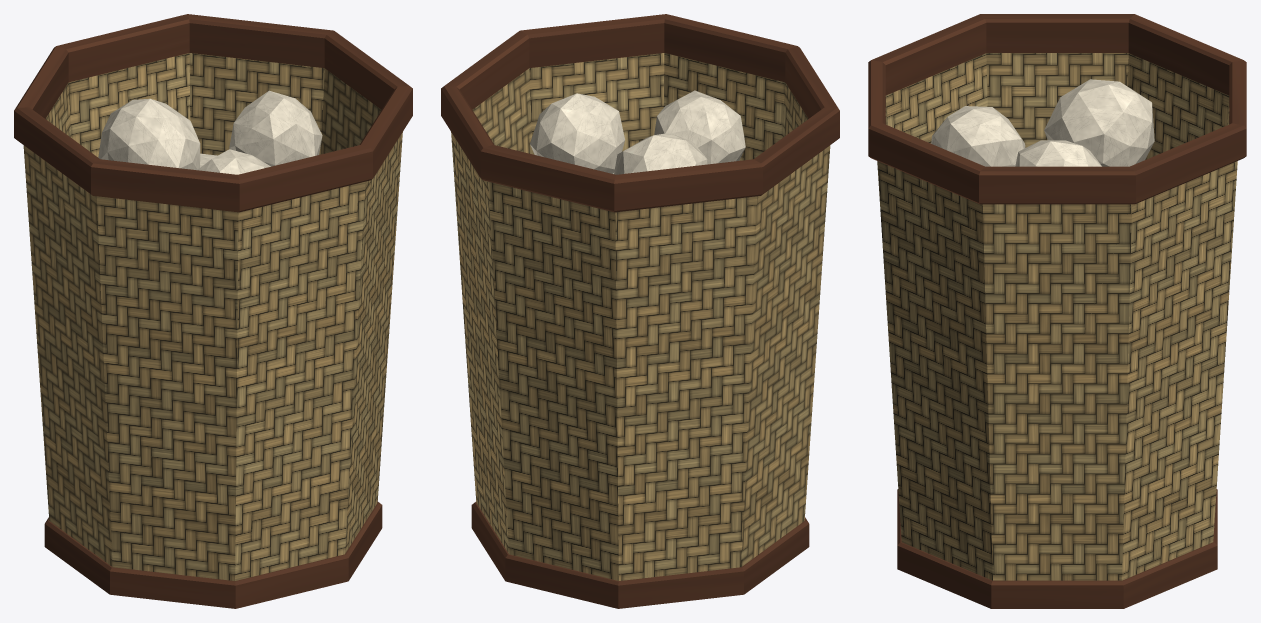
Rendered from 22B_Papelera.fbx.
3 renders of one model, left to right at view 1: azimuth 30°, elevation 25°; view 2: azimuth 150°, elevation 25°; view 3: azimuth 270°, elevation 25°, orthographic.
Parts seen in each view (by area): view 1: SM_22B_Papelera, SM_22B_Papeles; view 2: SM_22B_Papelera, SM_22B_Papeles; view 3: SM_22B_Papelera, SM_22B_Papeles.
Boxes of the visible parts, x1,y1,x2,y2 form: SM_22B_Papelera: [14, 14, 412, 608]; SM_22B_Papeles: [98, 90, 322, 174]; SM_22B_Papelera: [441, 14, 839, 608]; SM_22B_Papeles: [530, 90, 745, 174]; SM_22B_Papelera: [868, 14, 1246, 608]; SM_22B_Papeles: [931, 79, 1154, 166].
Size of the model in its own units: 0.26 by 0.34 by 0.26.
